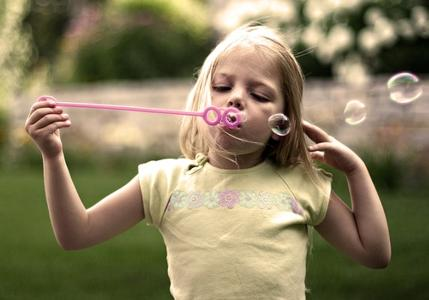person: (24, 26, 393, 300)
